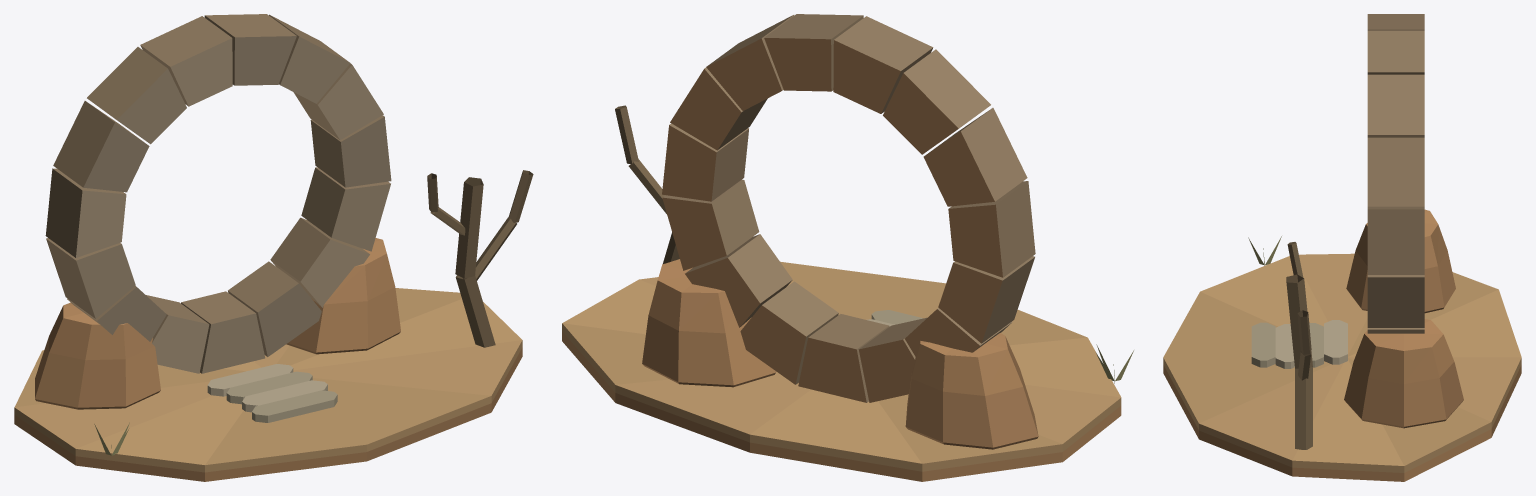
3 views of the same model, side by side, from view 1: azimuth 30°, elevation 25°; view 2: azimuth 150°, elevation 25°; view 3: azimuth 270°, elevation 25° (orthographic). The views are drawn at different scales.
Visible parts, largest first — view 1: S18_月门沙丘; view 2: S18_月门沙丘; view 3: S18_月门沙丘.
Part boxes in pixels (bbox=[...]): S18_月门沙丘: bbox=[14, 14, 533, 481]; S18_月门沙丘: bbox=[562, 14, 1133, 481]; S18_月门沙丘: bbox=[1163, 14, 1521, 481].
Bounding box in the file's own units: 4.64 × 3.34 × 3.27.
